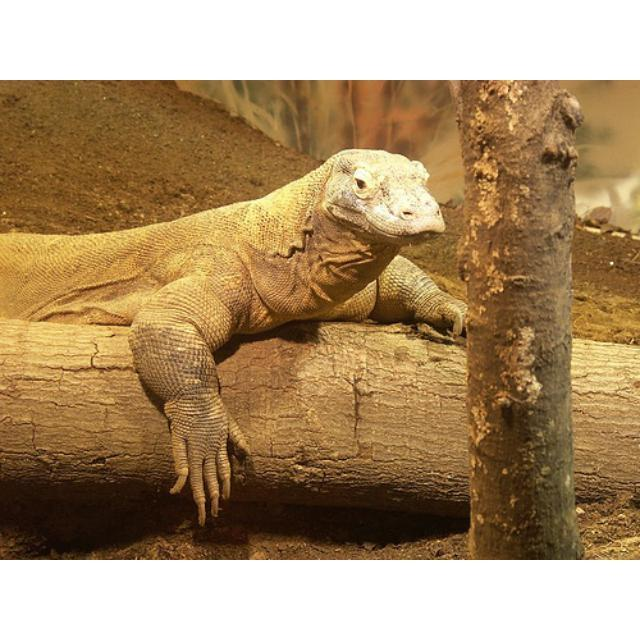KomodoDragon: (3, 143, 466, 529)
